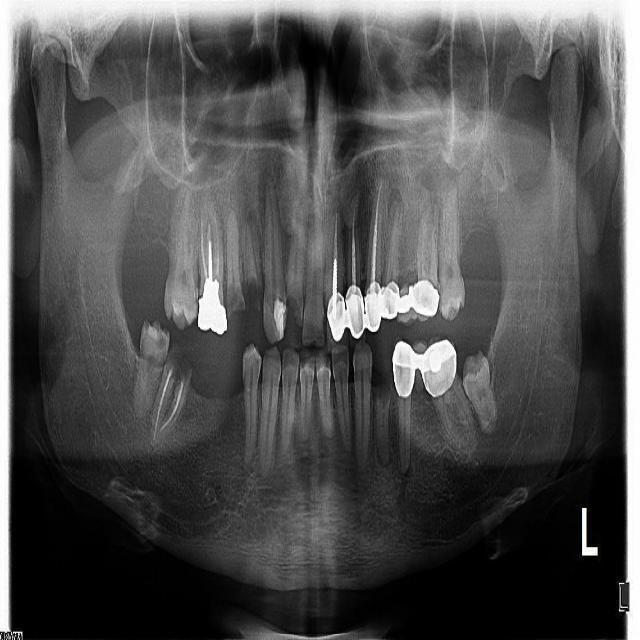Caries: (225, 283, 245, 317), (287, 290, 301, 337), (144, 356, 162, 368), (156, 335, 167, 348), (321, 316, 326, 339)
Crown: (422, 336, 456, 395), (392, 340, 417, 398), (344, 285, 367, 344), (326, 291, 348, 350), (197, 296, 228, 335), (410, 279, 438, 322), (365, 282, 382, 334), (380, 281, 400, 325), (398, 283, 418, 321), (411, 342, 426, 389)
Filling: (272, 298, 284, 335), (203, 281, 219, 296)
Missing teeth: (191, 347, 243, 398)
Periapical lesion: (257, 163, 284, 216), (387, 190, 404, 220), (394, 463, 416, 480), (377, 452, 396, 470)
Root Canal Treatment: (371, 185, 382, 282), (201, 210, 209, 280), (216, 220, 221, 286), (352, 216, 356, 286), (208, 238, 214, 280), (334, 215, 338, 259)
Root Piece: (150, 344, 185, 441), (156, 358, 192, 438), (241, 226, 262, 317), (373, 373, 393, 465)
